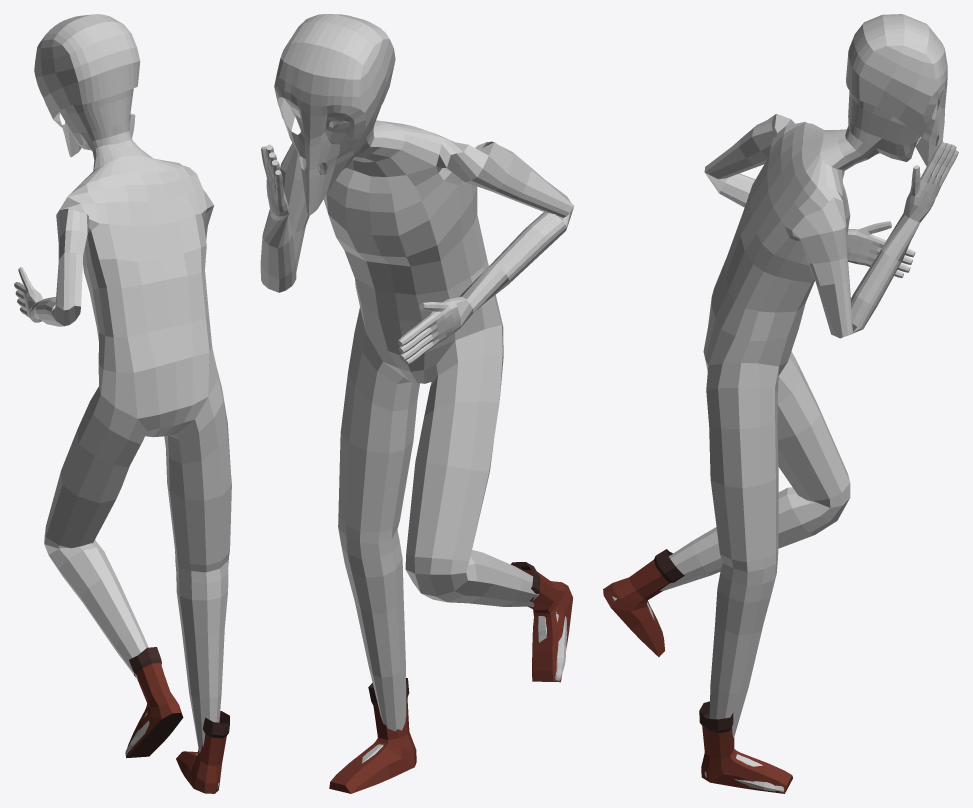
The model's file is correr_000138.obj.
The picture shows the model from 3 angles, left to right: view 1: azimuth 30°, elevation 25°; view 2: azimuth 150°, elevation 25°; view 3: azimuth 270°, elevation 25°; orthographic projection. The views are drawn at different scales.
Parts seen in each view (by area): view 1: Plane.002_Plane.001, Plane.004, Plane.003; view 2: Plane.002_Plane.001, Plane.003, Plane.004; view 3: Plane.002_Plane.001, Plane.004, Plane.003.
Boxes of the visible parts, <box> form: Plane.002_Plane.001: <box>14,14,231,788</box>; Plane.004: <box>126,647,183,758</box>; Plane.003: <box>176,711,229,793</box>; Plane.002_Plane.001: <box>260,14,574,763</box>; Plane.003: <box>329,678,416,793</box>; Plane.004: <box>511,562,572,682</box>; Plane.002_Plane.001: <box>612,14,958,791</box>; Plane.004: <box>603,549,684,656</box>; Plane.003: <box>699,701,792,793</box>.
Size of the model in its own units: 2.02 by 6.74 by 2.93.
